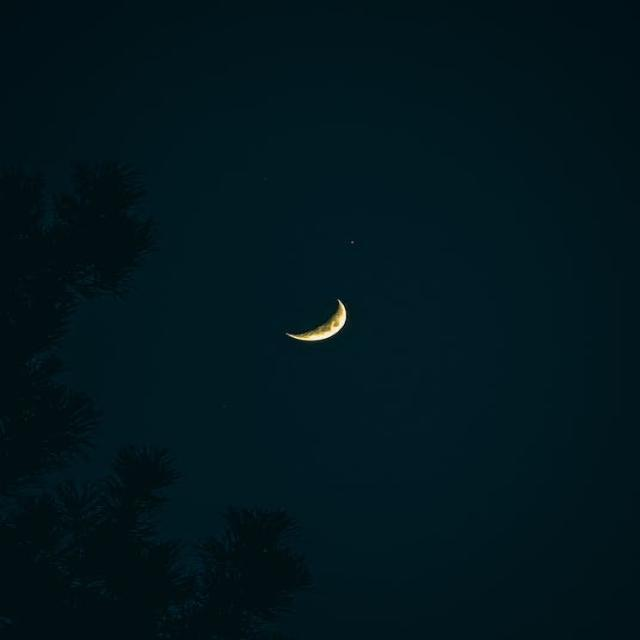moon: (276, 285, 357, 354)
